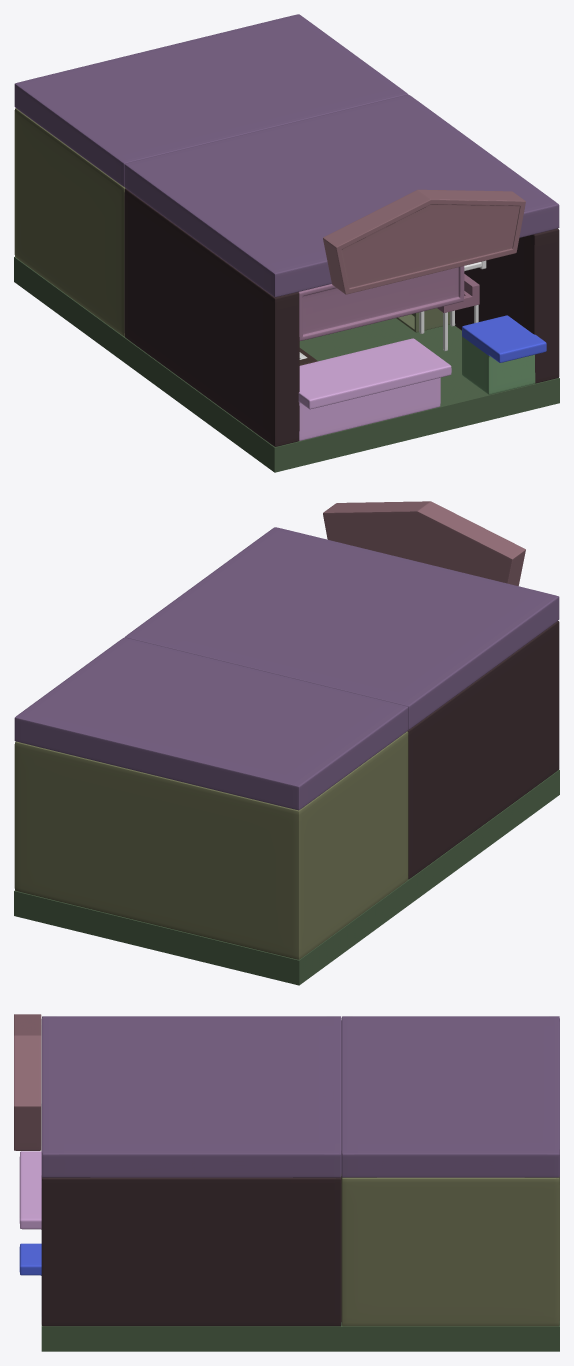
Rendered from Hawker.fbx.
3 renders of one model, top to bottom at view 1: azimuth 30°, elevation 25°; view 2: azimuth 150°, elevation 25°; view 3: azimuth 270°, elevation 25°, orthographic.
Parts seen in each view (by area): view 1: Roof.001, Walls.001, Roof.002, GROUND, Cube.101, SIGN_STALL, COUNTER_FRONT, SIGN_MENU, Cube.041, Cube.011, Cube.006; view 2: Cube.101, Roof.001, Roof.002, Walls.001, GROUND, SIGN_STALL; view 3: Roof.001, Walls.001, Roof.002, Cube.101, GROUND, SIGN_STALL, COUNTER_FRONT, Cube.041.
Boxes of the visible parts, x1,y1,x2,y2 form: Roof.001: (124,94,559,297); Walls.001: (124,188,559,446); Roof.002: (14,14,407,186); GROUND: (14,257,559,472); Cube.101: (14,108,125,336); SIGN_STALL: (323,189,525,294); COUNTER_FRONT: (298,338,451,440); SIGN_MENU: (299,266,464,340); Cube.041: (462,315,546,394); Cube.011: (396,308,450,332); Cube.006: (437,274,479,312); Cube.101: (14,731,408,959); Roof.001: (124,527,559,729); Roof.002: (14,637,408,810); Walls.001: (407,621,559,879); GROUND: (14,769,559,985); SIGN_STALL: (323,501,525,586); Roof.001: (41,1016,341,1177); Walls.001: (41,1175,341,1326); Roof.002: (341,1016,559,1177); Cube.101: (341,1174,559,1326); GROUND: (41,1321,559,1351); SIGN_STALL: (14,1014,41,1150); COUNTER_FRONT: (19,1151,41,1229); Cube.041: (19,1243,41,1275).
Size of the model in its own units: 1200 by 999 by 2001.
